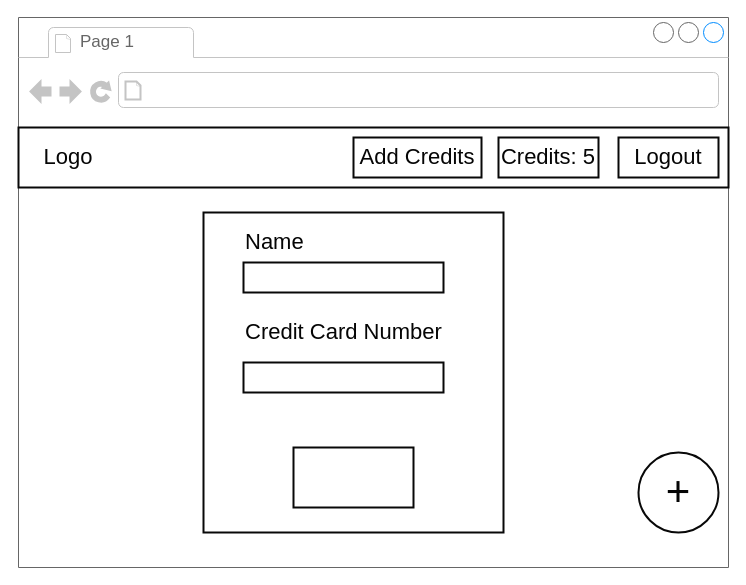
Some shapes in this 746 by 585 pixel diagram are drawn without their labels. Each missing label, with the centre of its shape:
"https://www.draw.io" goes at (x=273, y=90).
"Submit" goes at (x=353, y=477).
